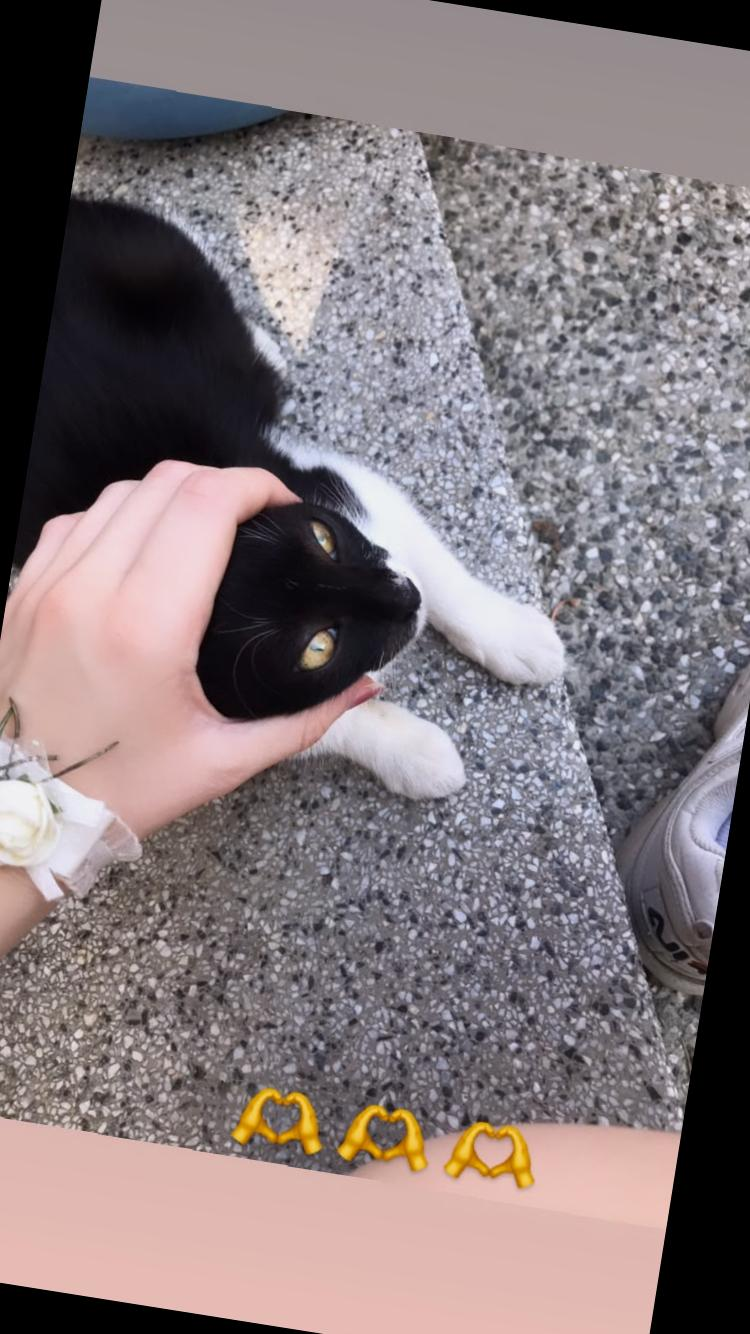macka: (0, 193, 628, 826)
